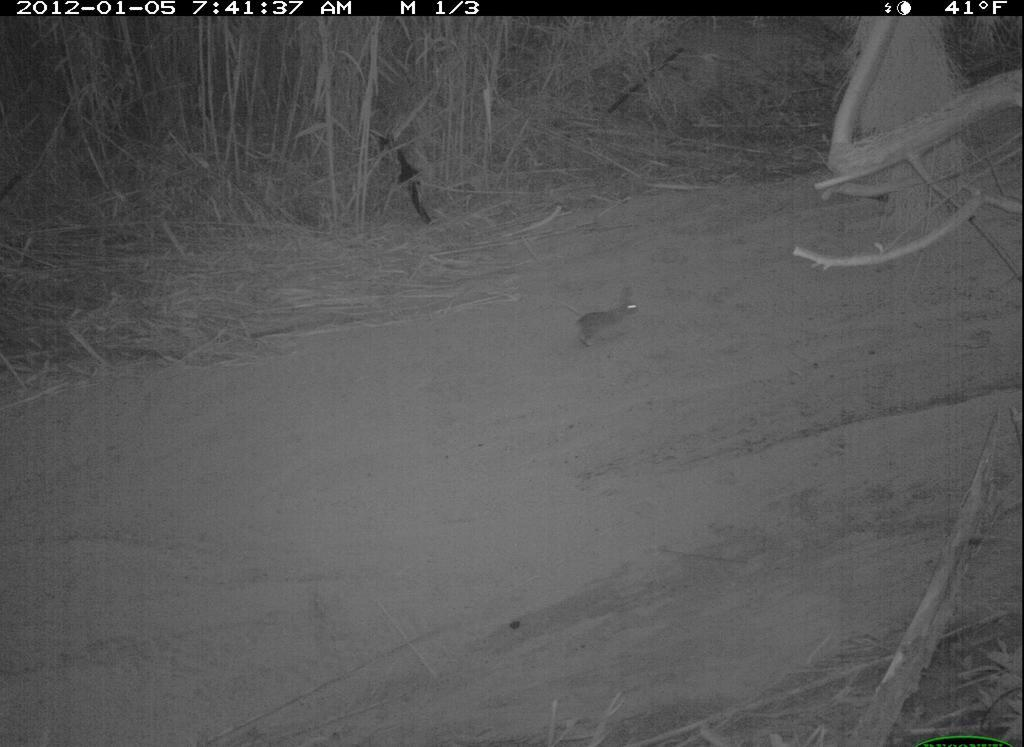rabbit: (569, 279, 661, 356)
